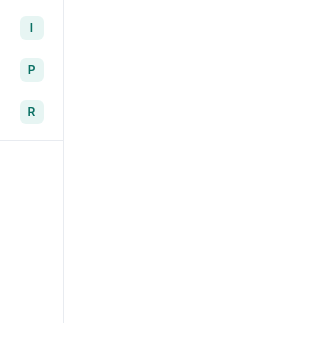
it: SidebarComponent › opens a flyout menu in collapsed mode and activates a child
Click the button "P". click: (32, 70)
box: [8, 50, 55, 90]
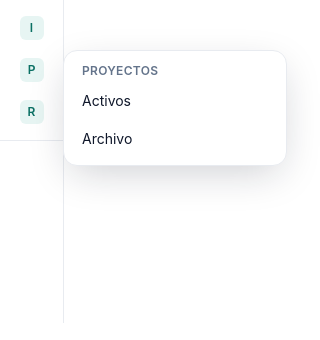
expect the menu is shown: met, box [63, 50, 287, 166]
Click the menu item "Activos". click: (106, 100)
box: [82, 92, 131, 109]
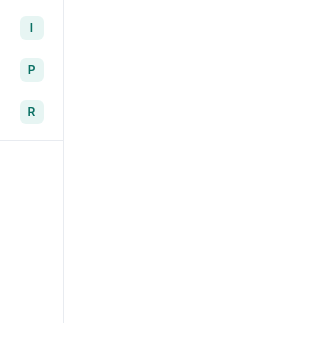
expect the menu is gone: met
